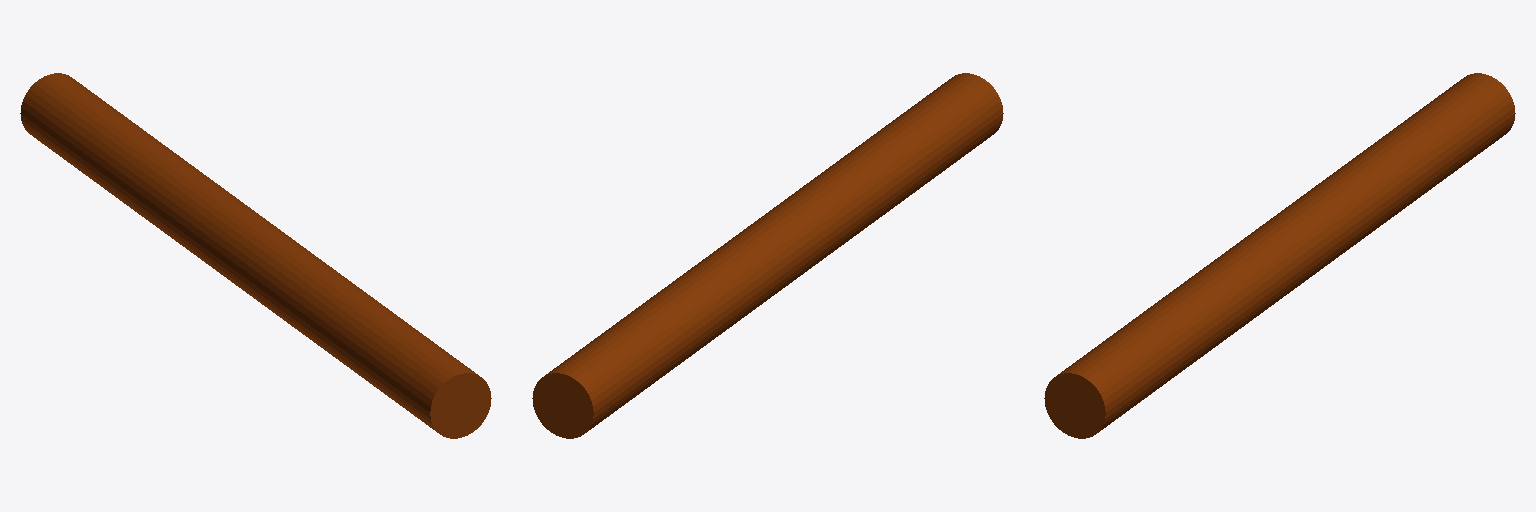
The robot description file, URDF, robot "cylinder":
<?xml version="1.0" ?>
<!-- =================================================================================== -->
<!-- |    This document was autogenerated by xacro from cylinder.xacro                 | -->
<!-- |    EDITING THIS FILE BY HAND IS NOT RECOMMENDED                                 | -->
<!-- =================================================================================== -->
<robot name="cylinder">
  <link name="world"/>
  <link name="base">
    <visual>
      <origin rpy="1.57079633 0 0" xyz="0 0 0"/>
      <geometry>
        <cylinder length="7.07106781185" radius="0.305"/>
      </geometry>
      <material name="cylinder_material">
        <color rgba="0.545 0.271 0.075 1.0"/>
        <texture filename="../textures/tree_bark.jpg"/>
      </material>
    </visual>
    <collision>
      <origin rpy="1.57079633 0 0" xyz="0 0 0"/>
      <geometry>
        <cylinder length="7.07106781185" radius="0.305"/>
      </geometry>
    </collision>
    <inertial>
      <origin rpy="0 0 0" xyz="0 0 0"/>
      <mass value="1"/>
      <inertia ixx="4.189922916648428" ixy="0.0" ixz="0.0" iyy="4.189922916648428" iyz="0.0" izz="24.999999999890573"/>
    </inertial>
  </link>
  <joint name="base_joint" type="fixed">
    <parent link="world"/>
    <child link="base"/>
    <origin rpy="0 0 0" xyz="0.0 0.0 0.0"/>
  </joint>
</robot>

--- Render facts (derived) ---
The picture shows the robot from 3 angles, left to right: view 1: azimuth 30°, elevation 25°; view 2: azimuth 150°, elevation 25°; view 3: azimuth 330°, elevation 25°; orthographic projection.
Robot: cylinder — 2 links, 1 joints (1 fixed); root link world; default pose: all joints at 0.
Visible links, largest first — view 1: base; view 2: base; view 3: base.
Boxes of the visible links, left/top/right/bottom form: base: left=20, top=73, right=491, bottom=438; base: left=532, top=73, right=1003, bottom=438; base: left=1044, top=73, right=1515, bottom=438.
Size in the robot's own frame: 0.61 by 7.07 by 0.61 metres.
Geometry: primitives only (box / cylinder / sphere), no mesh files.
